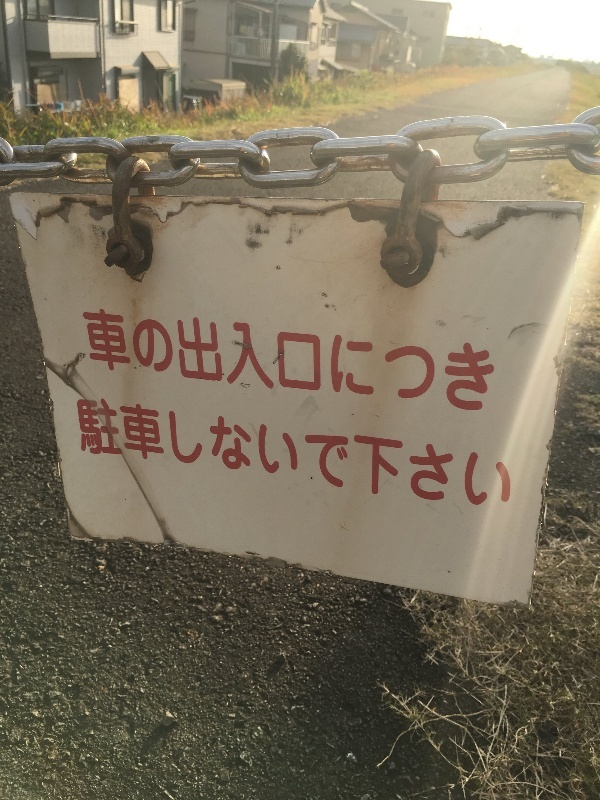text: (497, 394, 513, 514), (81, 394, 96, 514), (97, 394, 112, 514), (113, 394, 128, 514), (129, 394, 144, 514), (145, 394, 160, 514), (161, 394, 176, 514), (177, 394, 192, 514), (193, 394, 208, 514), (209, 394, 224, 514), (225, 394, 240, 514), (241, 394, 256, 514), (257, 394, 272, 514), (273, 394, 288, 514), (289, 394, 304, 514), (305, 394, 320, 514), (321, 394, 336, 514), (337, 394, 352, 514), (353, 394, 368, 514), (369, 394, 384, 514), (385, 394, 400, 514), (401, 394, 416, 514), (417, 394, 432, 514), (433, 394, 448, 514), (449, 394, 464, 514), (465, 394, 480, 514), (481, 394, 496, 514), (97, 307, 112, 419), (113, 307, 128, 419), (129, 307, 144, 419), (145, 307, 160, 419), (161, 307, 176, 419), (177, 307, 192, 419), (193, 307, 208, 419), (209, 307, 224, 419), (225, 307, 240, 419), (241, 307, 256, 419), (257, 307, 272, 419), (273, 307, 288, 419), (289, 307, 304, 419), (305, 307, 320, 419), (321, 307, 336, 419), (337, 307, 352, 419), (353, 307, 368, 419), (369, 307, 384, 419), (385, 307, 400, 419), (401, 307, 416, 419), (417, 307, 432, 419), (433, 307, 448, 419), (449, 307, 464, 419), (465, 307, 480, 419), (481, 307, 495, 419), (83, 307, 96, 419), (76, 394, 80, 514)
